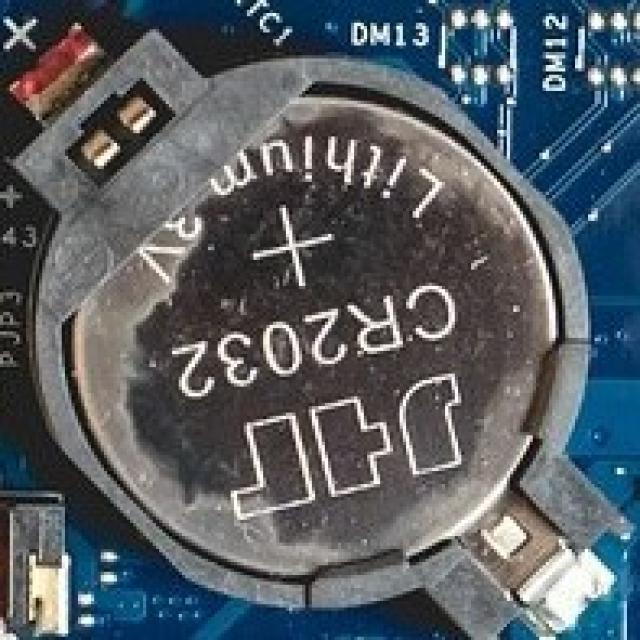clock Q1: (33, 59, 602, 628)
